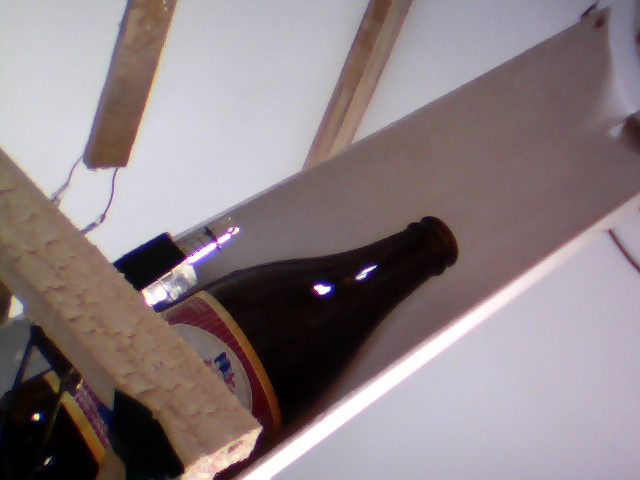vidrio: (187, 209, 464, 434)
